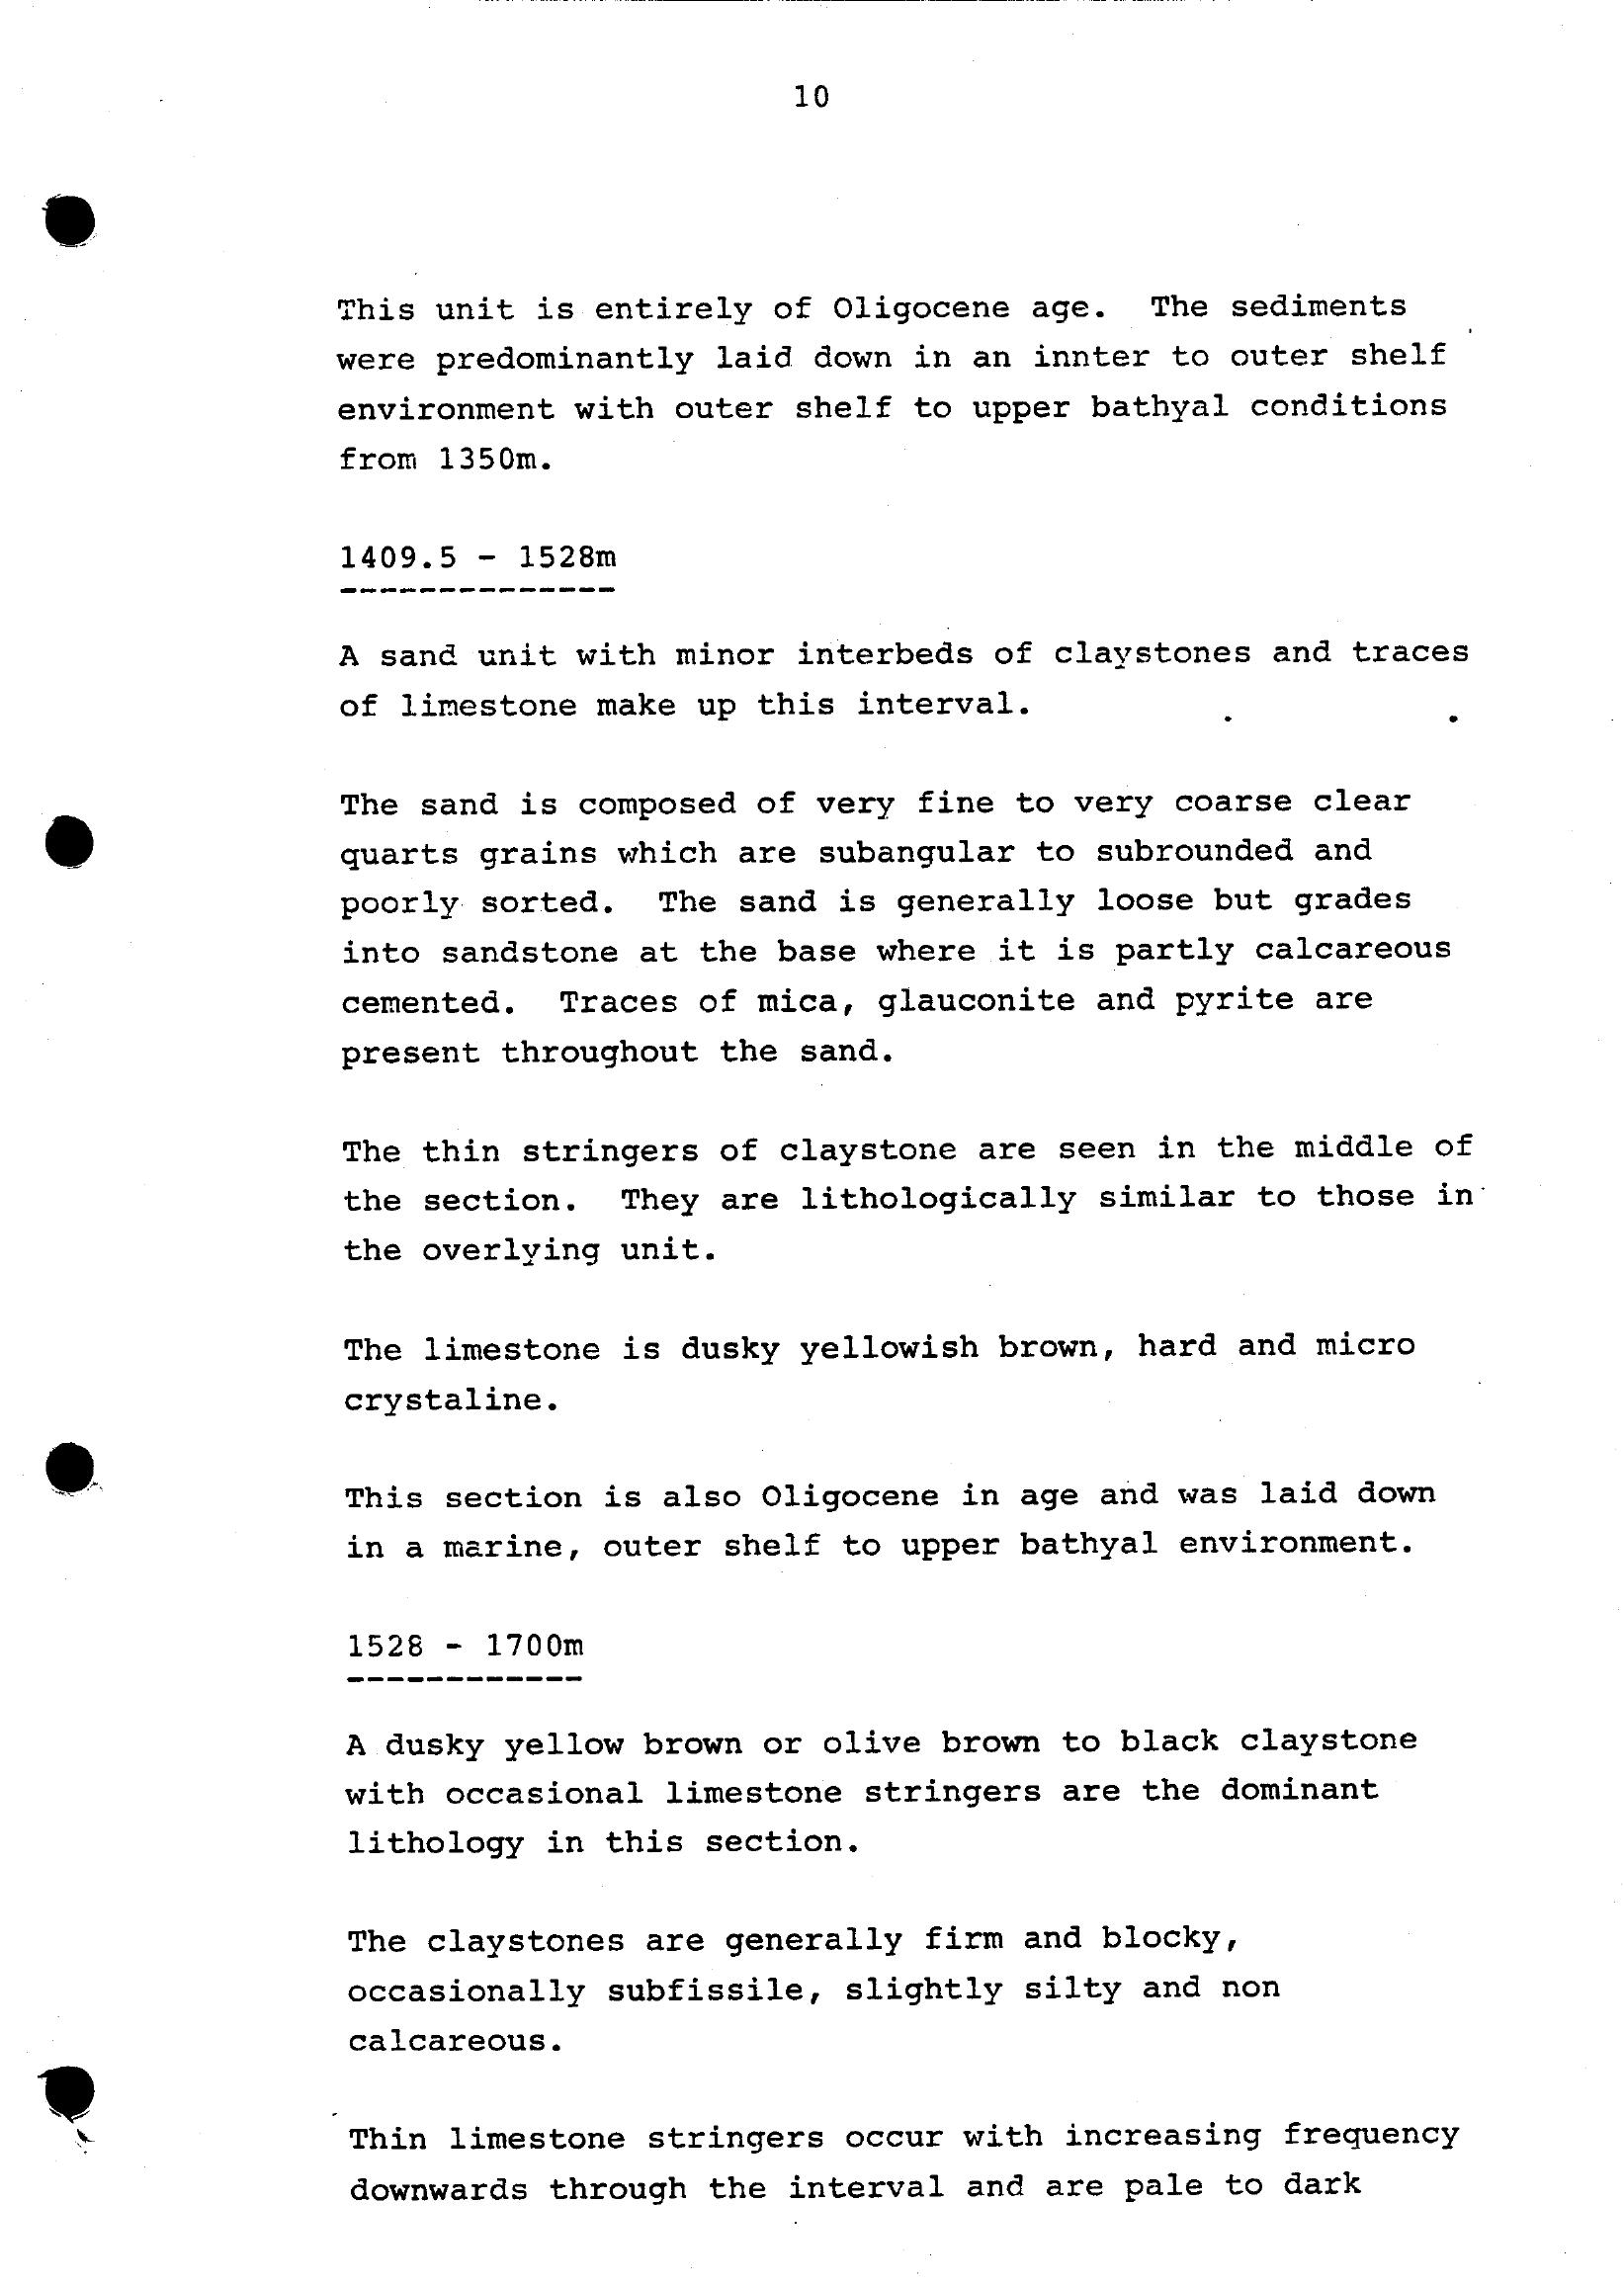text: (272, 243, 1526, 2246)
